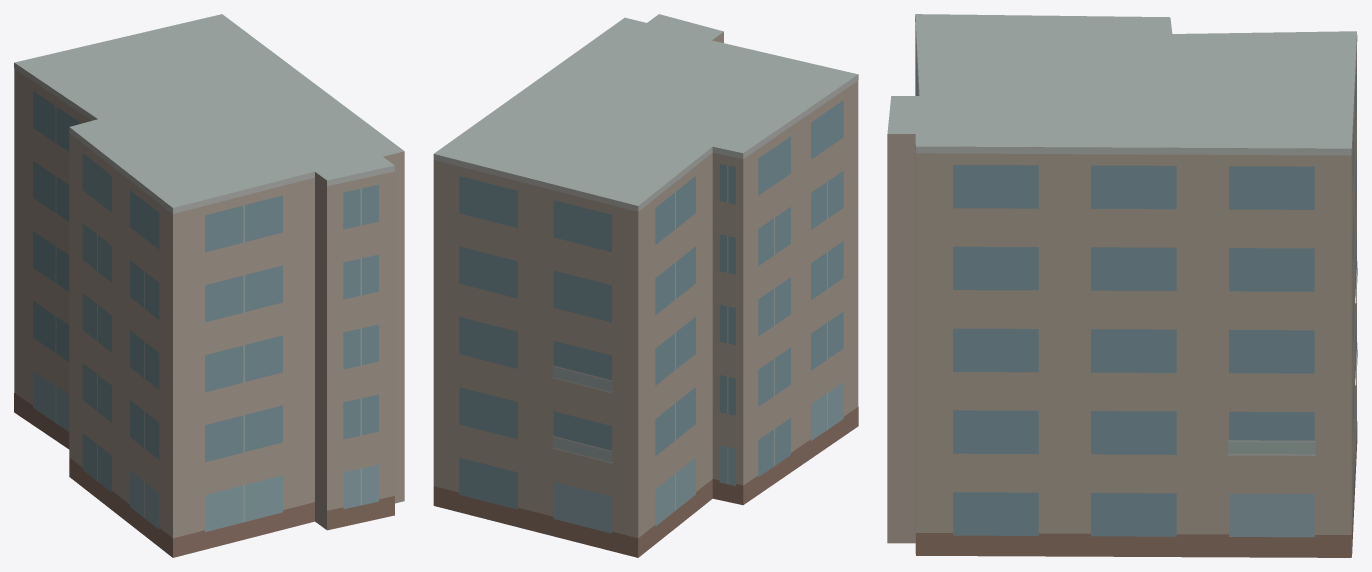
Rendered from survey-upis-32744802.glb.
3 renders of one model, left to right at view 1: azimuth 30°, elevation 25°; view 2: azimuth 150°, elevation 25°; view 3: azimuth 270°, elevation 25°, orthographic. The views are drawn at different scales.
Parts seen in each view (by area): view 1: survey-upis-32744802.tmp; view 2: survey-upis-32744802.tmp; view 3: survey-upis-32744802.tmp.
Part boxes in pixels (x1,y1,x2,y2): survey-upis-32744802.tmp: (14,14,404,557); survey-upis-32744802.tmp: (433,14,858,557); survey-upis-32744802.tmp: (887,14,1357,557).
Size of the model in its own units: 10.25 by 14.48 by 15.09.
